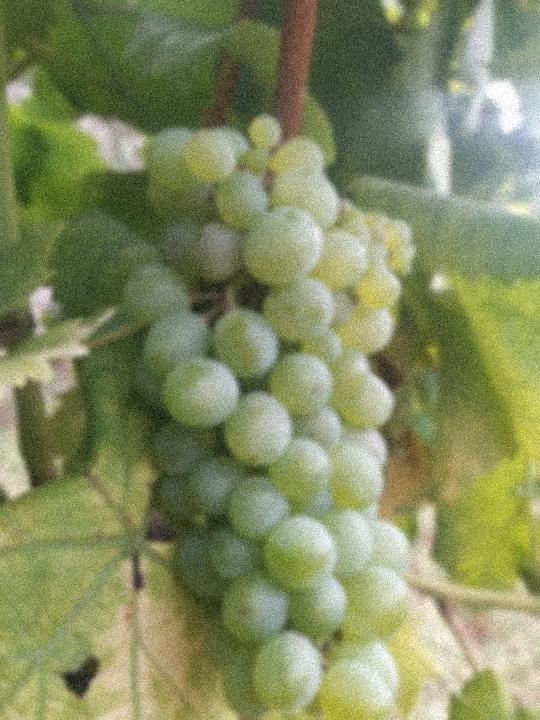grape: (121, 112, 420, 720)
